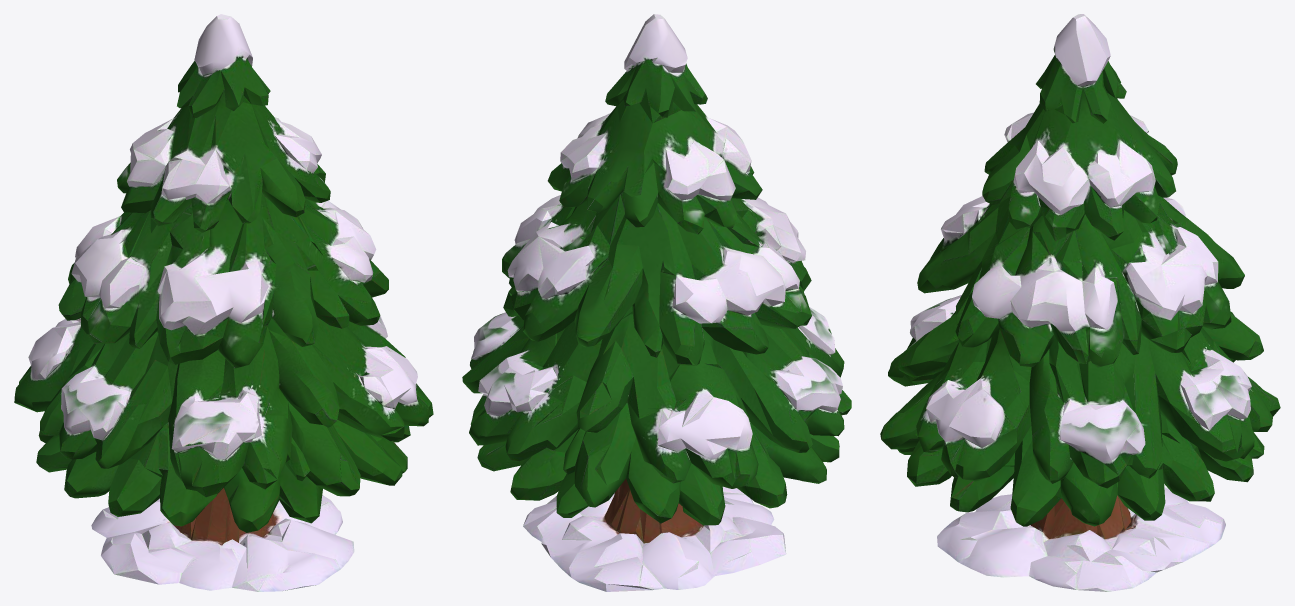
The model's file is tree_b.glb.
3 renders of one model, left to right at view 1: azimuth 30°, elevation 25°; view 2: azimuth 150°, elevation 25°; view 3: azimuth 270°, elevation 25°, orthographic.
Parts seen in each view (by area): view 1: output_unwrapped; view 2: output_unwrapped; view 3: output_unwrapped.
Part boxes in pixels (<box>): output_unwrapped: <box>14,14,433,591</box>; output_unwrapped: <box>462,14,851,591</box>; output_unwrapped: <box>880,14,1280,591</box>.
Bounding box in the file's own units: 1.34 × 1.9 × 1.33.
1 material, 1 textured.
